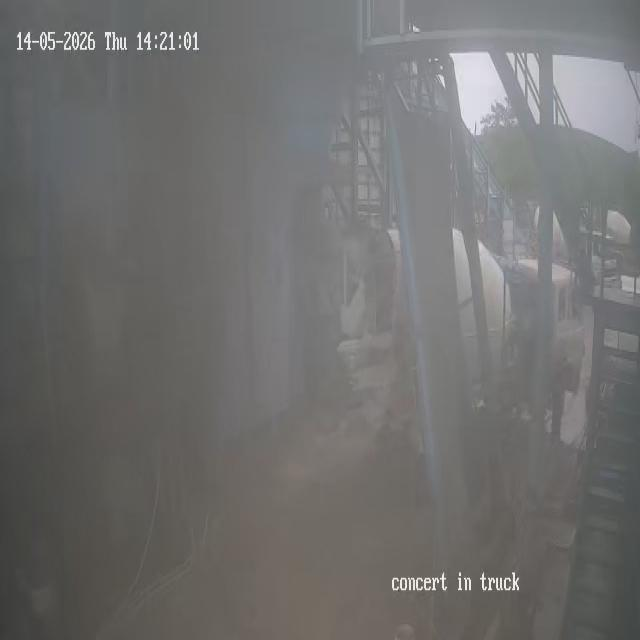cement_mixer_truck: (346, 221, 584, 478)
